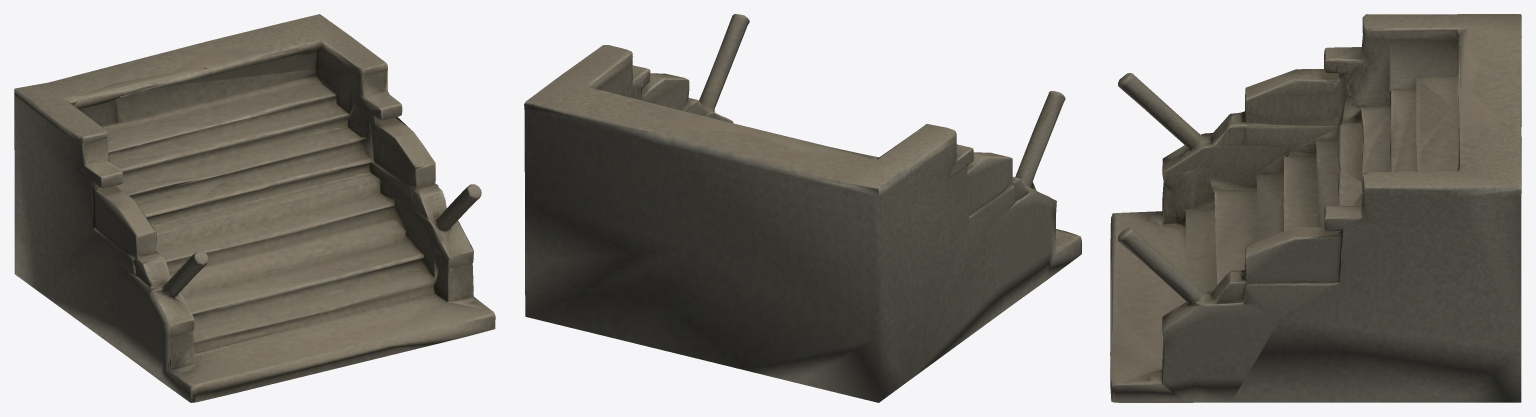
The model's file is stair_block.glb.
3 renders of one model, left to right at view 1: azimuth 30°, elevation 25°; view 2: azimuth 150°, elevation 25°; view 3: azimuth 270°, elevation 25°, orthographic. The views are drawn at different scales.
Size of the model in its own units: 1.9 by 1.1 by 1.9.
1 material, 1 textured.
